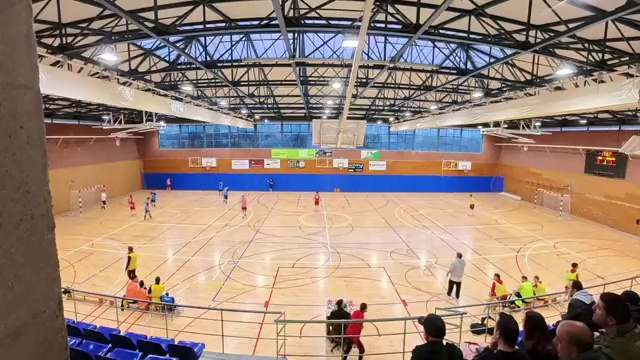players blue shirt: (144, 197, 151, 220), (150, 191, 156, 206), (218, 181, 224, 195), (223, 186, 228, 202)
players red shirt: (127, 195, 135, 215), (241, 194, 247, 217), (314, 192, 320, 210), (165, 178, 171, 190)
